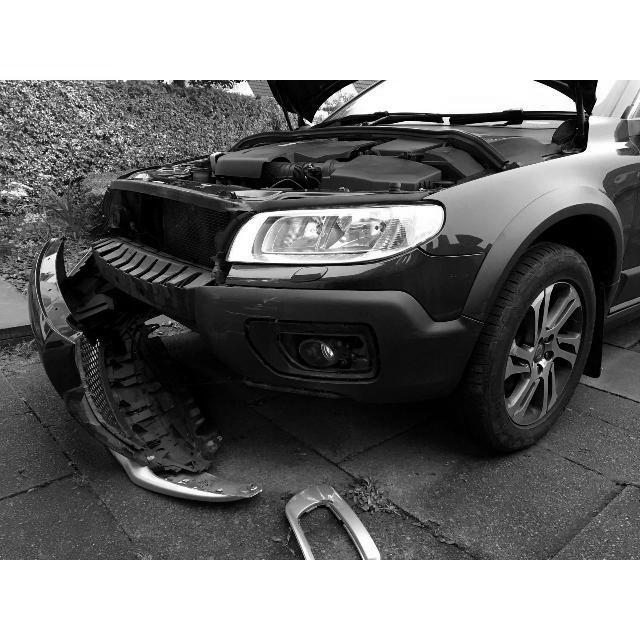front-bumper-dent: (32, 249, 260, 381)
